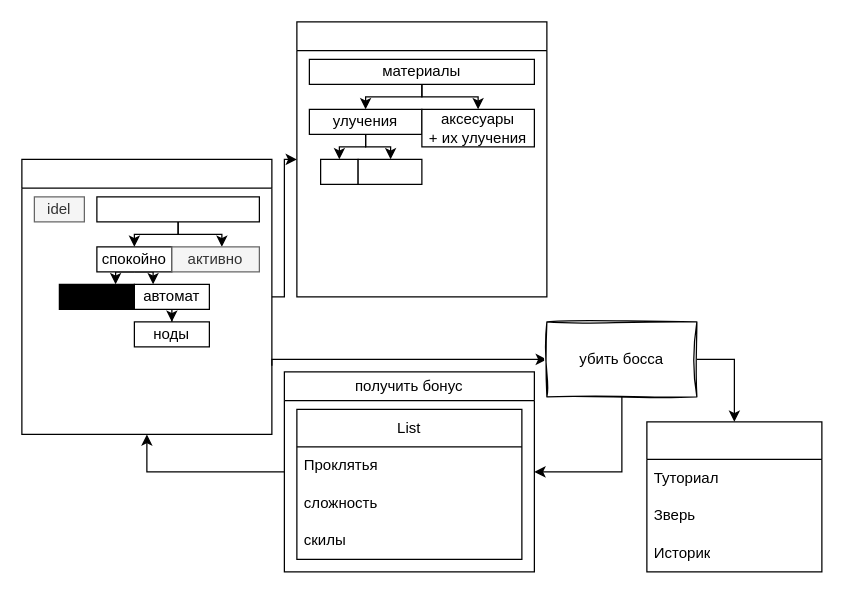
This 844x594 diagram has some shape labels left out. The box of each missing label's shape, as (x1, y1, x2, y2) in pixels:
активность: (96, 196, 259, 222)
боссы: (646, 421, 822, 572)
добыть ресурсы: (21, 158, 272, 434)
нод: (319, 158, 358, 184)
оружий: (357, 158, 422, 184)
ресурсы: (296, 21, 547, 297)
